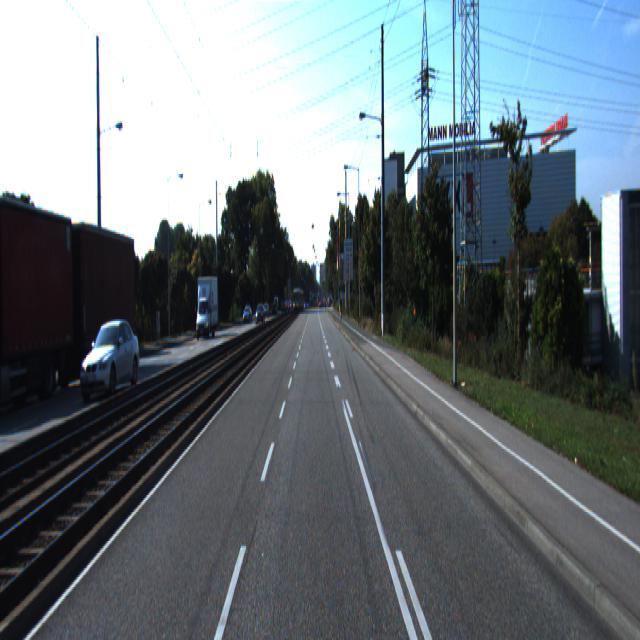Car: (0, 192, 78, 424), (51, 219, 138, 389), (79, 316, 144, 401), (193, 274, 219, 340)
